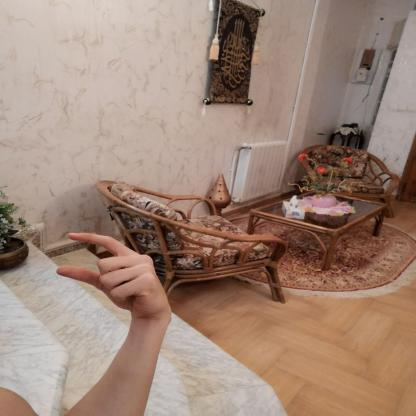DELL: (42, 226, 182, 322)
